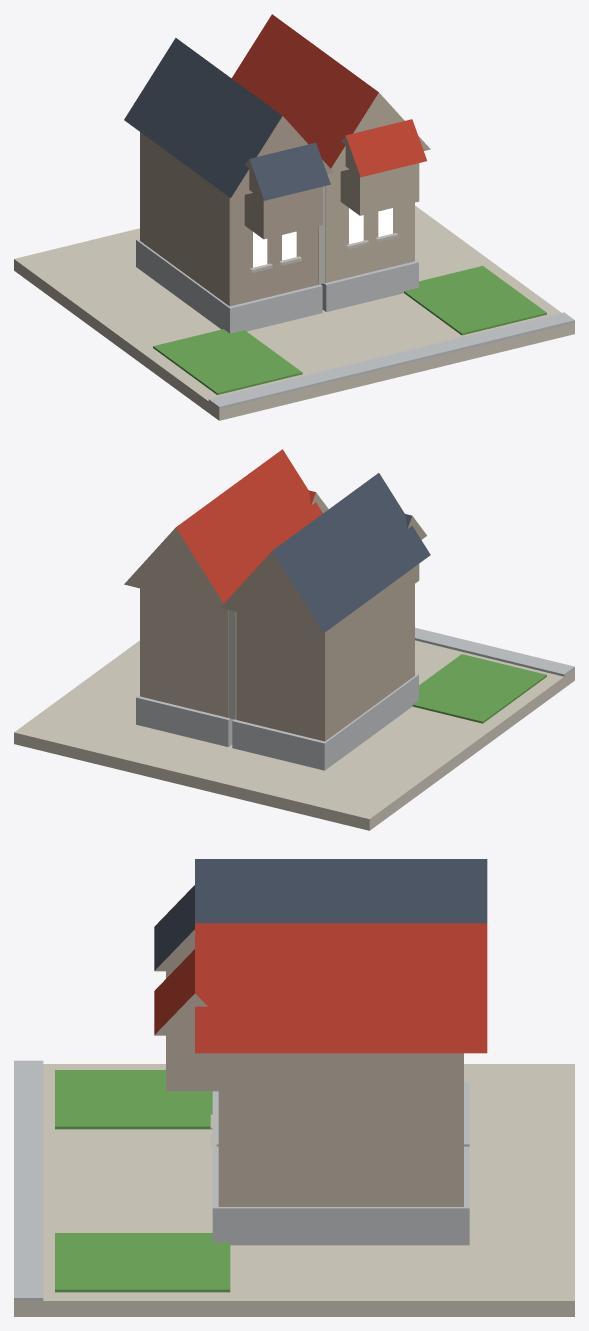
3 renders of one model, top to bottom at view 1: azimuth 30°, elevation 25°; view 2: azimuth 150°, elevation 25°; view 3: azimuth 270°, elevation 25°, orthographic. The views are drawn at different scales.
Visible parts, largest first — view 1: b04_v2_lod1; view 2: b04_v2_lod1; view 3: b04_v2_lod1.
Boxes of the visible parts, bbox=[...] form: b04_v2_lod1: bbox=[14, 14, 574, 420]; b04_v2_lod1: bbox=[14, 449, 574, 830]; b04_v2_lod1: bbox=[14, 859, 574, 1316].
Size of the model in its own units: 0.96 by 0.58 by 0.96.
